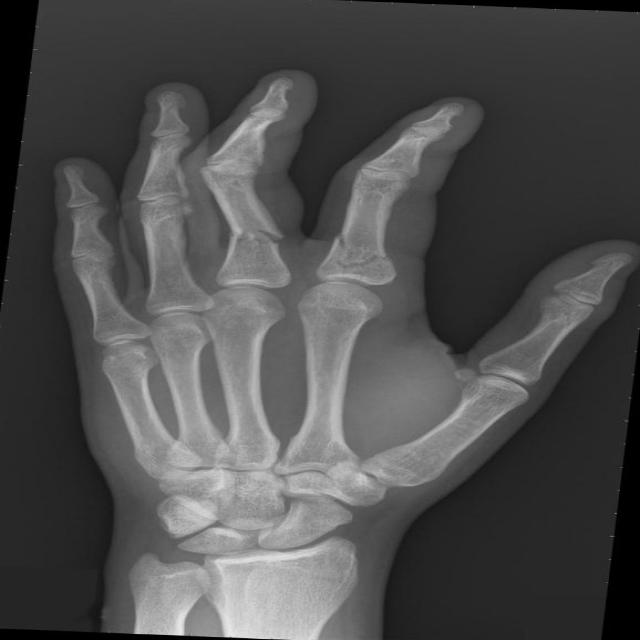Transverse Displaced: (311, 230, 418, 290), (212, 211, 290, 266)
